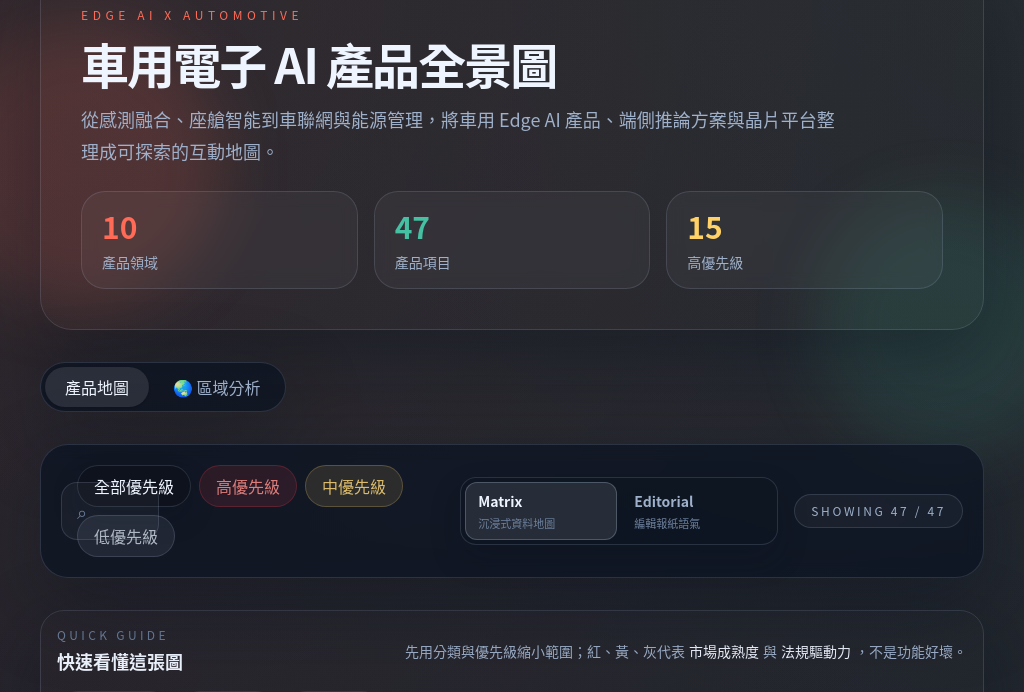
Test: EdgeAIMapExplorer › shows an empty state for unmatched search
Type "non-existent-signal" into the search field labelled "搜尋產品、AI 應用、晶片方案" at (110, 511), box [61, 482, 159, 540]
(page scrolled)
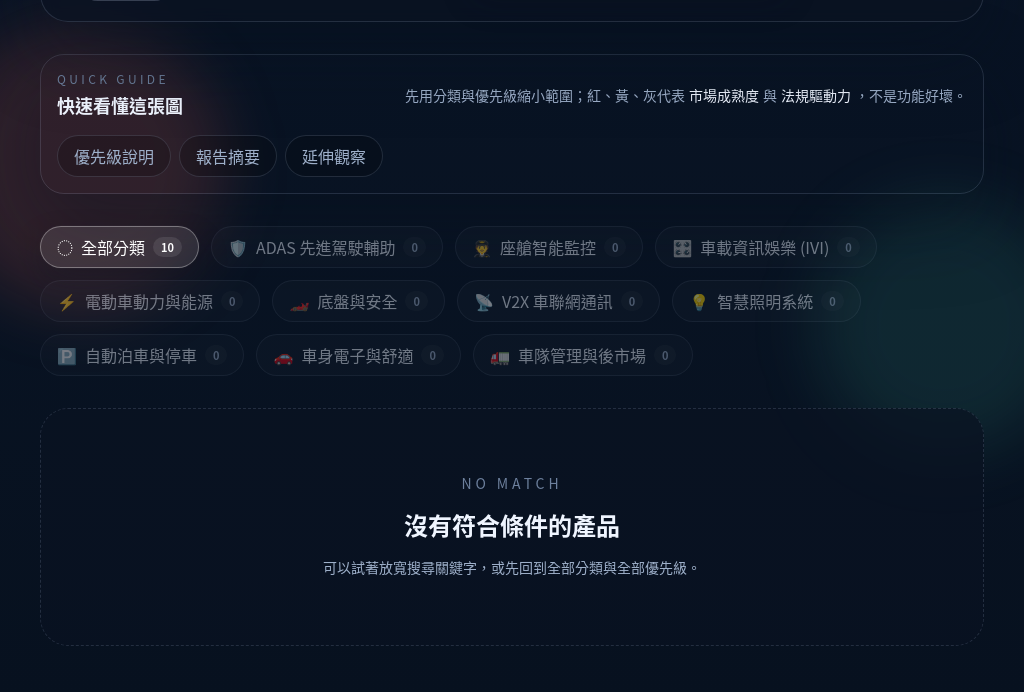
Now the heading "沒有符合條件的產品" is shown, box [404, 507, 620, 542]
